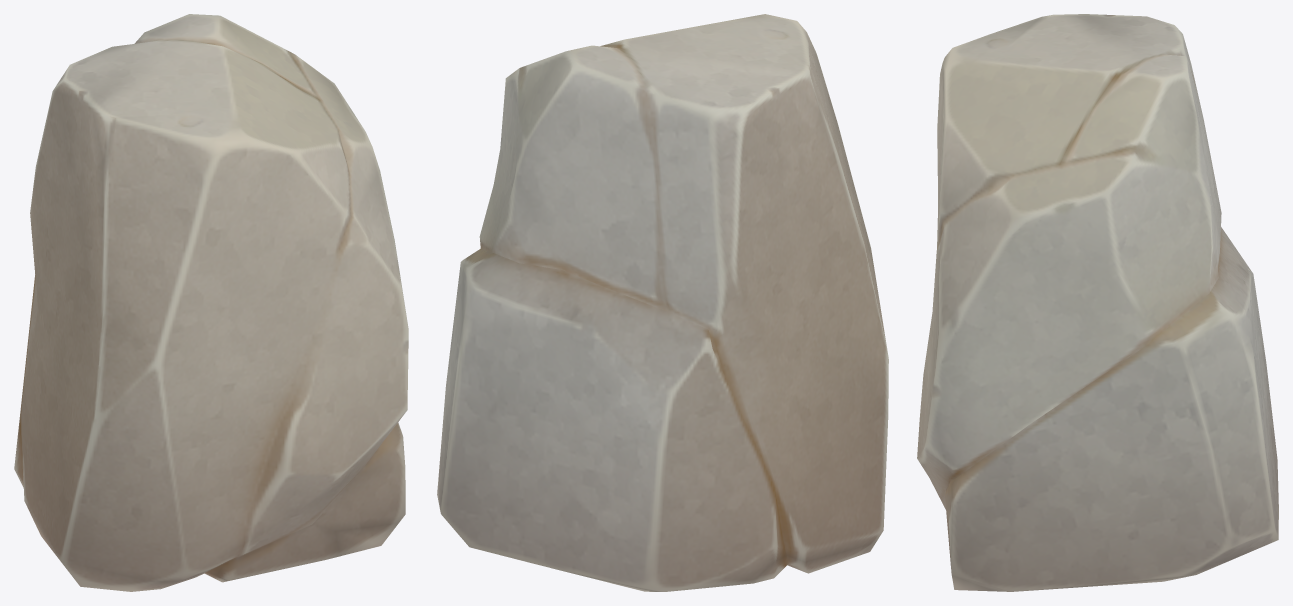
Rendered from rock8.glb.
3 views of the same model, side by side, from view 1: azimuth 30°, elevation 25°; view 2: azimuth 150°, elevation 25°; view 3: azimuth 270°, elevation 25° (orthographic). The views are drawn at different scales.
Parts seen in each view (by area): view 1: Rock8; view 2: Rock8; view 3: Rock8.
Boxes of the visible parts, bbox=[...] form: Rock8: bbox=[14, 14, 408, 591]; Rock8: bbox=[437, 14, 888, 591]; Rock8: bbox=[917, 14, 1278, 591].
Bounding box in the file's own units: 0.8819 × 1.25 × 0.8484.
Materials: 1 (1 with a texture image).
